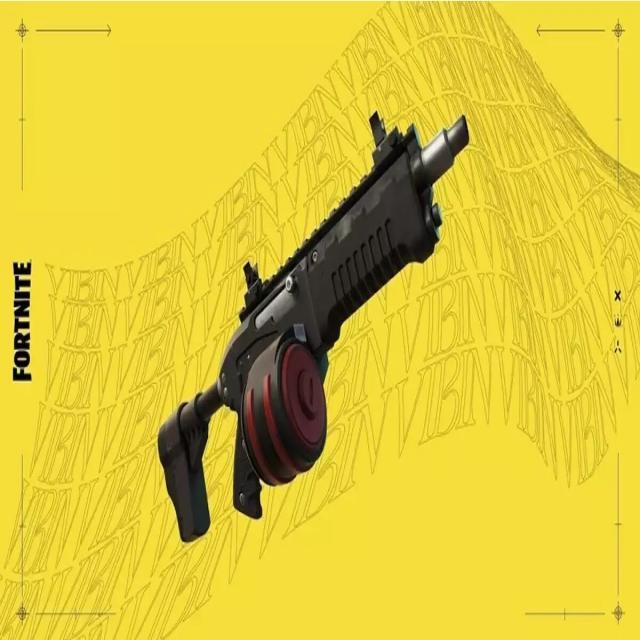rifle: (150, 88, 474, 549)
